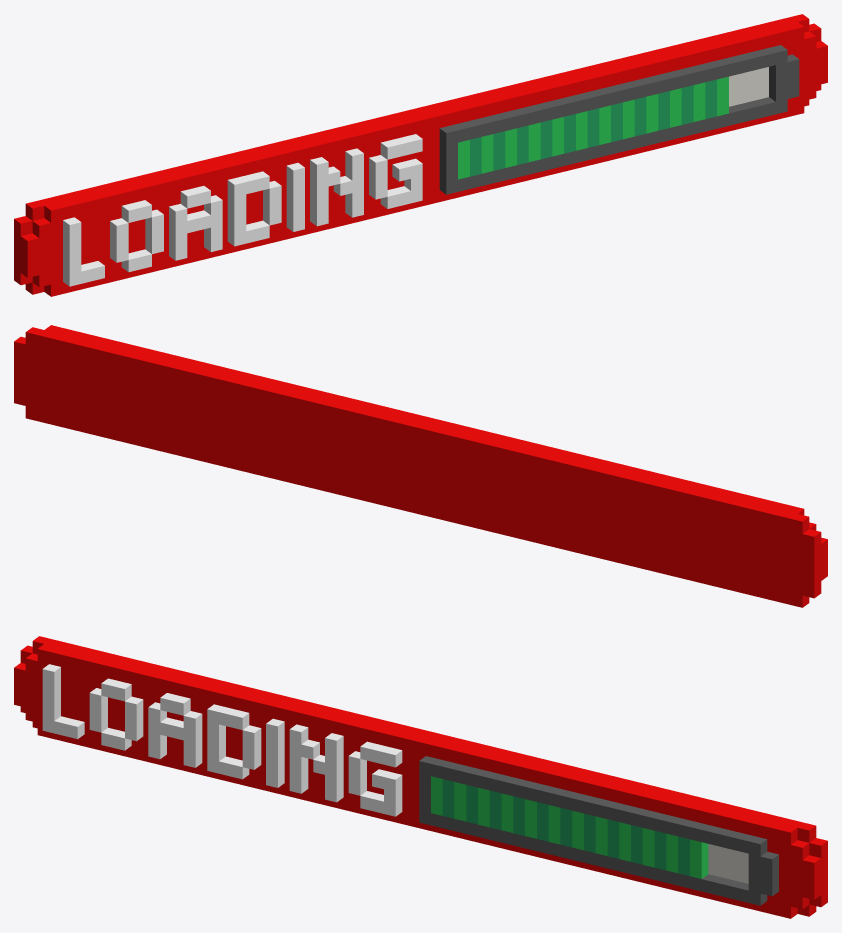
The model's file is loading_7.obj.
3 views of the same model, one above another, from view 1: azimuth 30°, elevation 25°; view 2: azimuth 150°, elevation 25°; view 3: azimuth 330°, elevation 25° (orthographic).
Visible parts, largest first — view 1: loading_7; view 2: loading_7; view 3: loading_7.
Part boxes in pixels (bbox=[...]): loading_7: bbox=[14, 14, 827, 296]; loading_7: bbox=[14, 325, 827, 607]; loading_7: bbox=[14, 636, 827, 918].
Bounding box in the file's own units: 68 × 7 × 3.
1 material, 1 textured.
